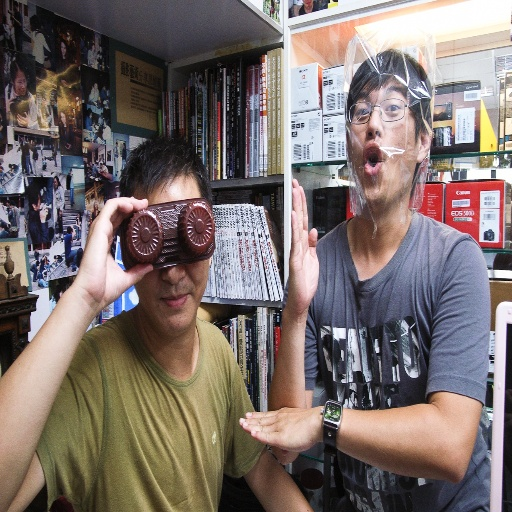hand: (72, 195, 154, 315), (283, 169, 323, 346), (239, 405, 318, 454)
